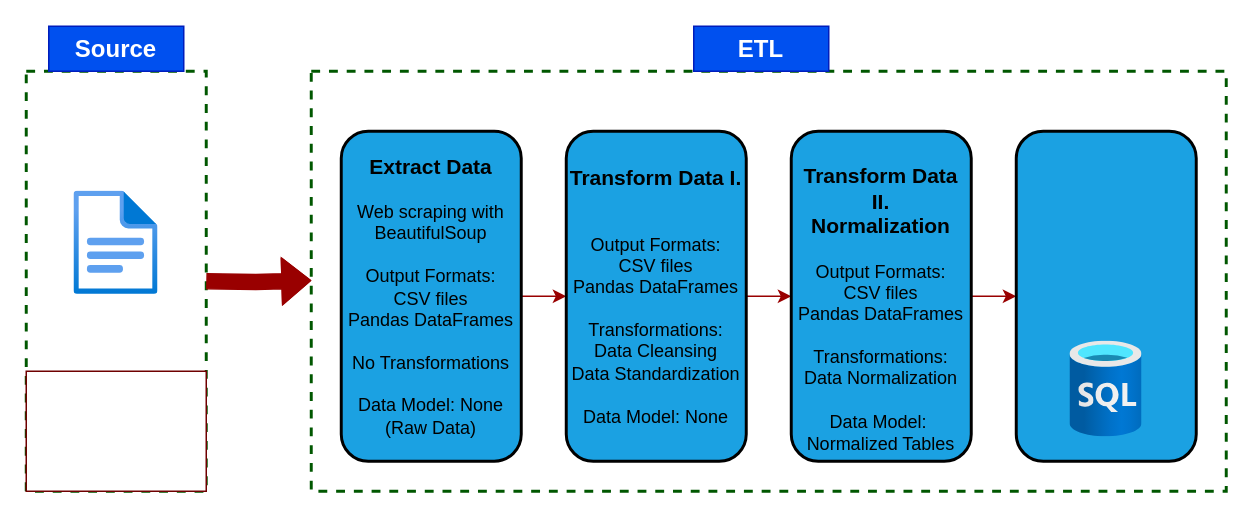
Image size: 1254x519. Some labels were removed from this diagram. Each missing label, with the box of its shape:
Load Data Output Format: SQL DB No Transformations:: (1014, 129, 1197, 462)
Source: HTML Website: (25, 370, 206, 491)
